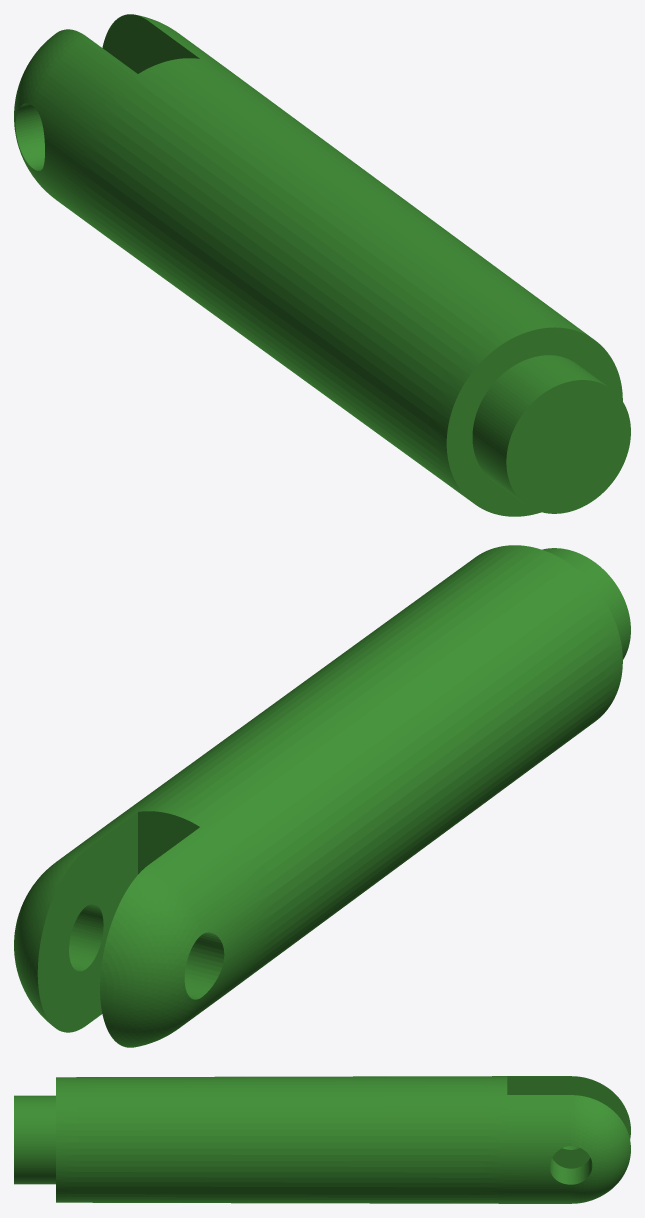
3 renders of one model, top to bottom at view 1: azimuth 30°, elevation 25°; view 2: azimuth 150°, elevation 25°; view 3: azimuth 270°, elevation 25°, orthographic. The views are drawn at different scales.
Visible parts, largest first — view 1: node; view 2: node; view 3: node.
Part boxes in pixels (box(x1,y1,x2,y2)): node: box(14, 14, 630, 516); node: box(14, 545, 630, 1047); node: box(14, 1076, 630, 1203).
Size of the model in its own units: 0.0708 by 0.0707 by 0.3417.
